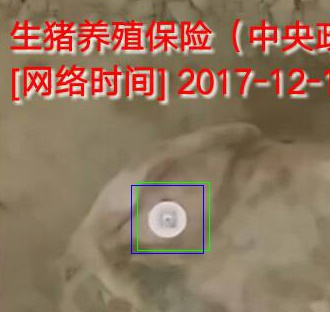text: (137, 182, 209, 250)
